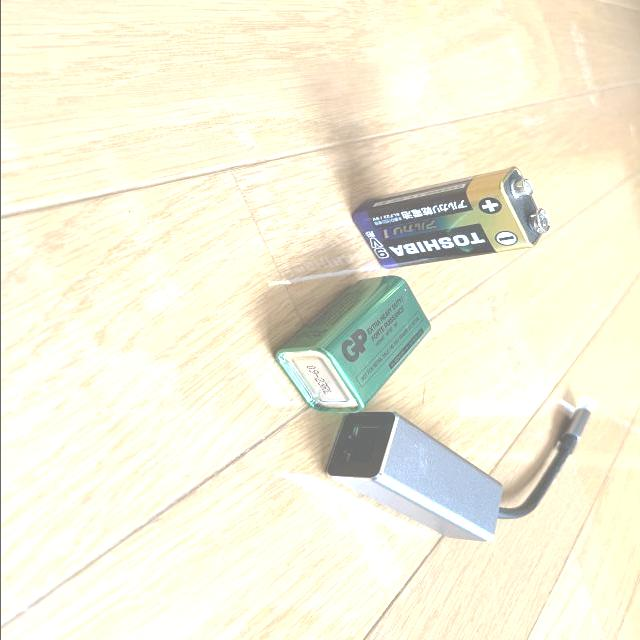9V: (273, 276, 431, 413), (352, 168, 549, 269)
